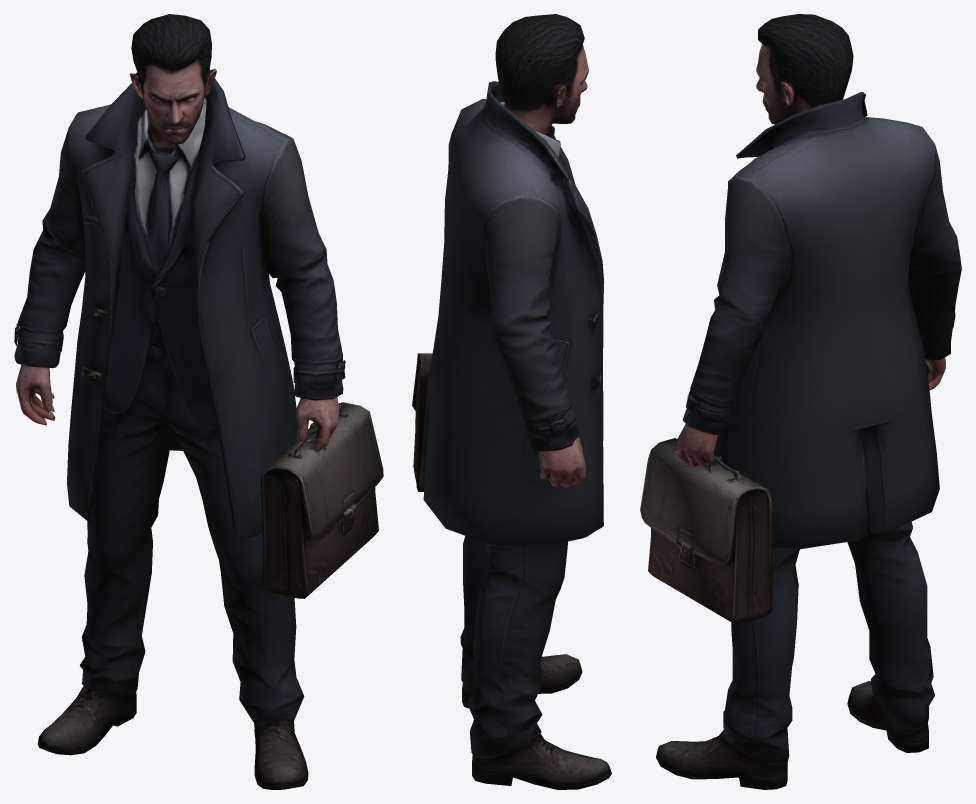
File: CDL_Mesh_DrugLord.glb
3 renders of one model, left to right at view 1: azimuth 30°, elevation 25°; view 2: azimuth 150°, elevation 25°; view 3: azimuth 270°, elevation 25°, orthographic. The views are drawn at different scales.
Visible parts, largest first — view 1: tripo_node_7959fafe-2d0f-4c33-8e22-63d6e409a575; view 2: tripo_node_7959fafe-2d0f-4c33-8e22-63d6e409a575; view 3: tripo_node_7959fafe-2d0f-4c33-8e22-63d6e409a575.
Boxes of the visible parts, bbox=[...] form: tripo_node_7959fafe-2d0f-4c33-8e22-63d6e409a575: bbox=[14, 14, 383, 789]; tripo_node_7959fafe-2d0f-4c33-8e22-63d6e409a575: bbox=[412, 14, 611, 789]; tripo_node_7959fafe-2d0f-4c33-8e22-63d6e409a575: bbox=[640, 14, 961, 789].
Bounding box in the file's own units: 0.3887 × 0.998 × 0.4004.
1 material, 1 textured.
